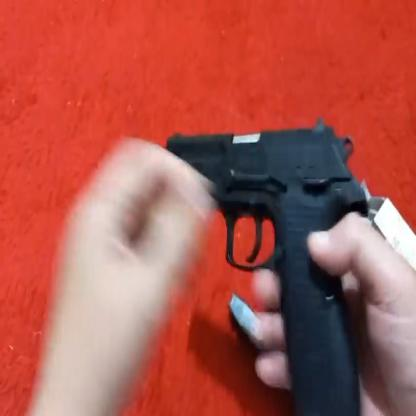handgun: (159, 121, 375, 416)
